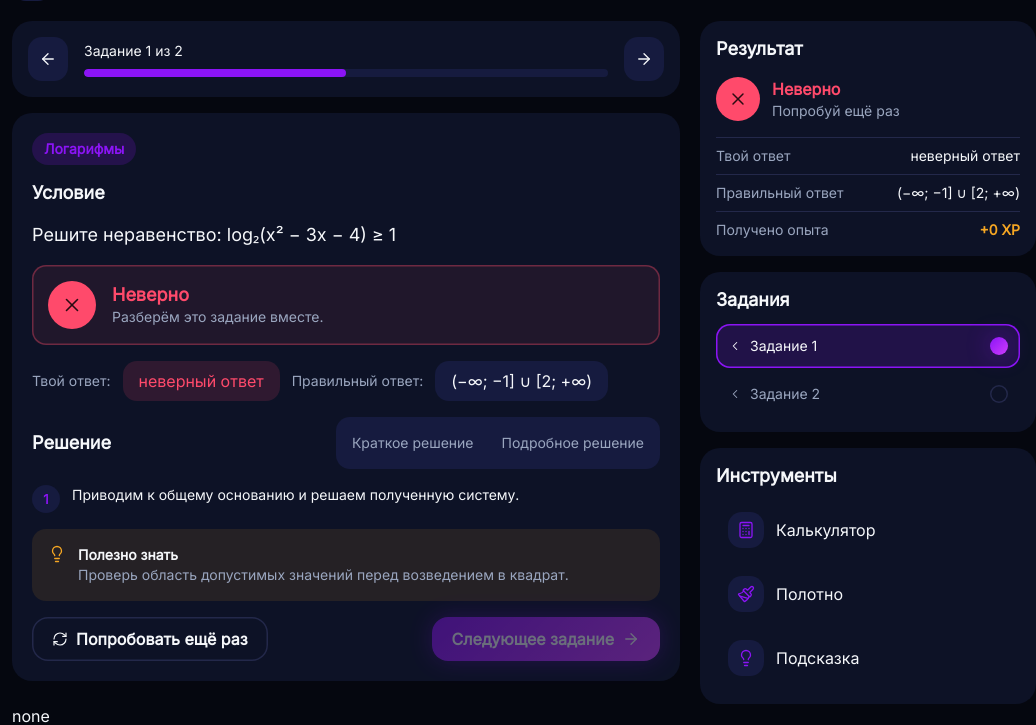
Test: ResultDesktop — "К списку заданий" › "Попробовать ещё раз" reopens the same task, not a plain back() to Home (audit Block 3)
Expected: the text "Приводим к общему основанию и решаем полученную систему." is shown, [72,486,519,503]
Click the button "Попробовать ещё раз" at (150, 639), box [32,617,268,661]
(page scrolled)
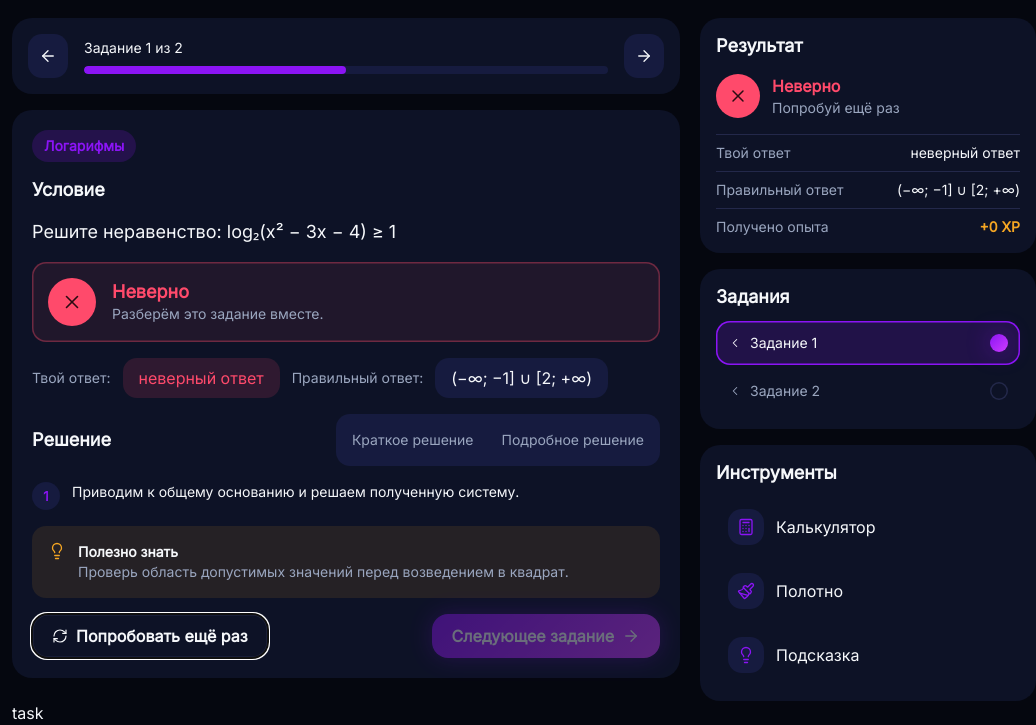
Result: the text with test id "overlay" reads "task" at [12,703,44,723]
